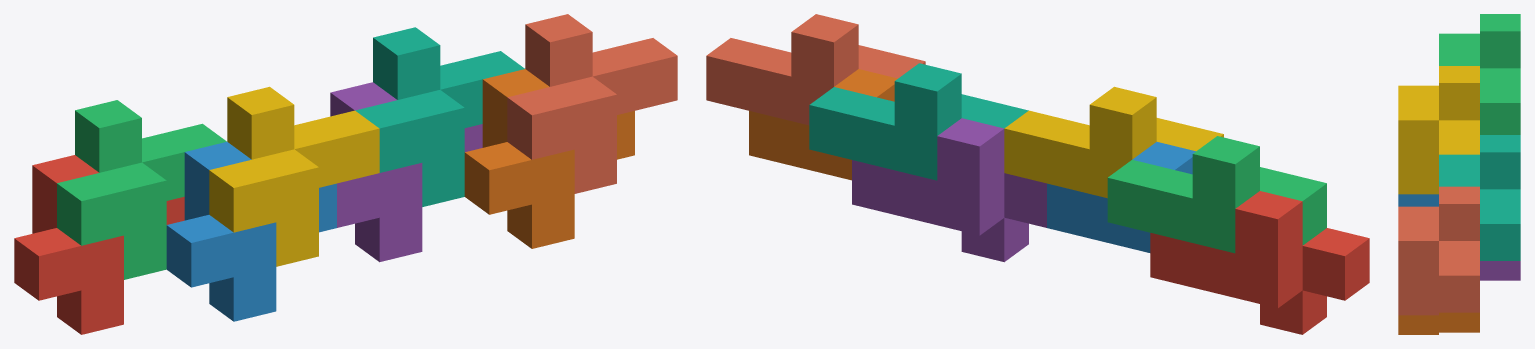
File: tiling.obj
The picture shows the model from 3 angles, left to right: view 1: azimuth 30°, elevation 25°; view 2: azimuth 150°, elevation 25°; view 3: azimuth 270°, elevation 25°; orthographic projection. The views are drawn at different scales.
Parts seen in each view (by area): view 1: copy_1_domain_4, copy_1_domain_8, copy_1_domain_3, copy_1_domain_7, copy_1_domain_2, copy_1_domain_6, copy_1_domain_1, copy_1_domain_5; view 2: copy_1_domain_1, copy_1_domain_5, copy_1_domain_3, copy_1_domain_7, copy_1_domain_4, copy_1_domain_8, copy_1_domain_2, copy_1_domain_6; view 3: copy_1_domain_8, copy_1_domain_4, copy_1_domain_7, copy_1_domain_3, copy_1_domain_6, copy_1_domain_5, copy_1_domain_2.
Part boxes in pixels (x1,y1,x2,y2): copy_1_domain_4: (209,86,379,266); copy_1_domain_8: (507,14,677,193); copy_1_domain_3: (57,100,226,279); copy_1_domain_7: (355,27,524,206); copy_1_domain_2: (166,142,336,321); copy_1_domain_6: (464,69,634,248); copy_1_domain_1: (14,155,184,334); copy_1_domain_5: (330,82,482,262); copy_1_domain_1: (1150,191,1369,334); copy_1_domain_5: (852,118,1046,262); copy_1_domain_3: (1107,136,1326,253); copy_1_domain_7: (809,63,1028,180); copy_1_domain_4: (1004,86,1223,198); copy_1_domain_8: (706,14,925,125); copy_1_domain_2: (1047,142,1195,252); copy_1_domain_6: (749,69,897,180); copy_1_domain_8: (1398,186,1479,315); copy_1_domain_4: (1398,66,1479,194); copy_1_domain_7: (1439,135,1520,260); copy_1_domain_3: (1439,14,1520,134); copy_1_domain_6: (1398,312,1479,334); copy_1_domain_5: (1480,261,1520,280); copy_1_domain_2: (1398,194,1438,206).
Size of the model in its own units: 15 by 4 by 3.
